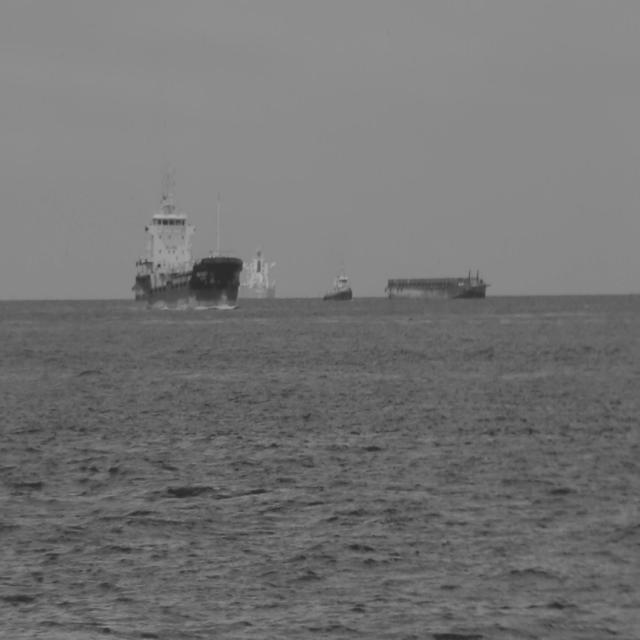ship: (128, 166, 244, 306), (386, 270, 492, 300), (238, 248, 276, 298)
